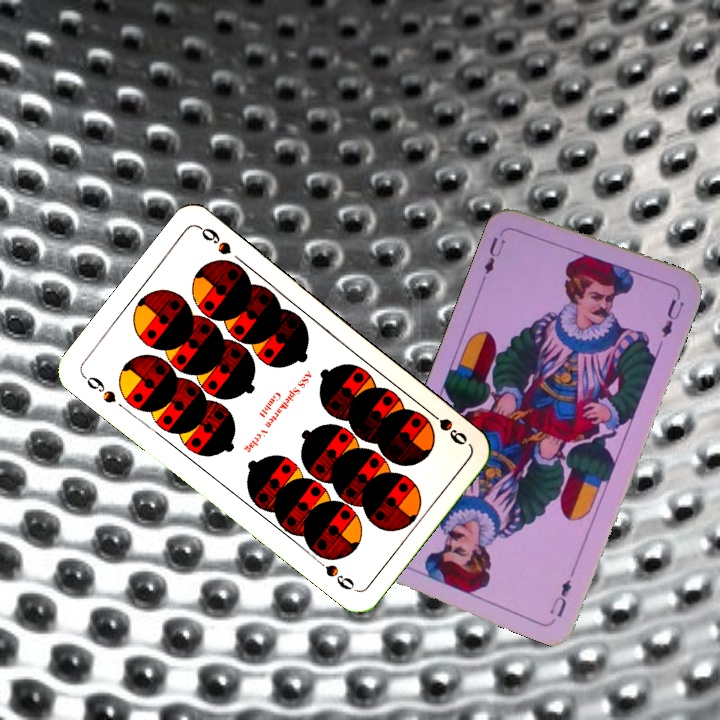EU: (479, 226, 509, 277), (545, 575, 574, 620)
S9: (421, 404, 470, 448), (78, 371, 119, 406)
